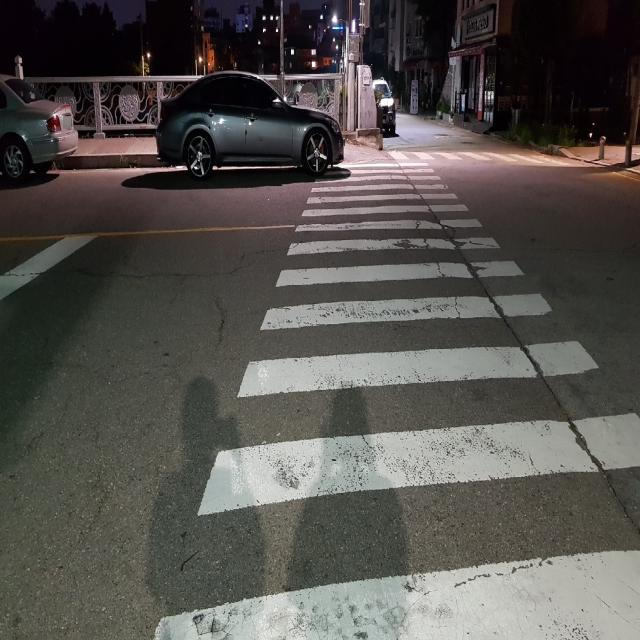횡단보도: (150, 160, 640, 640), (394, 151, 574, 163)
